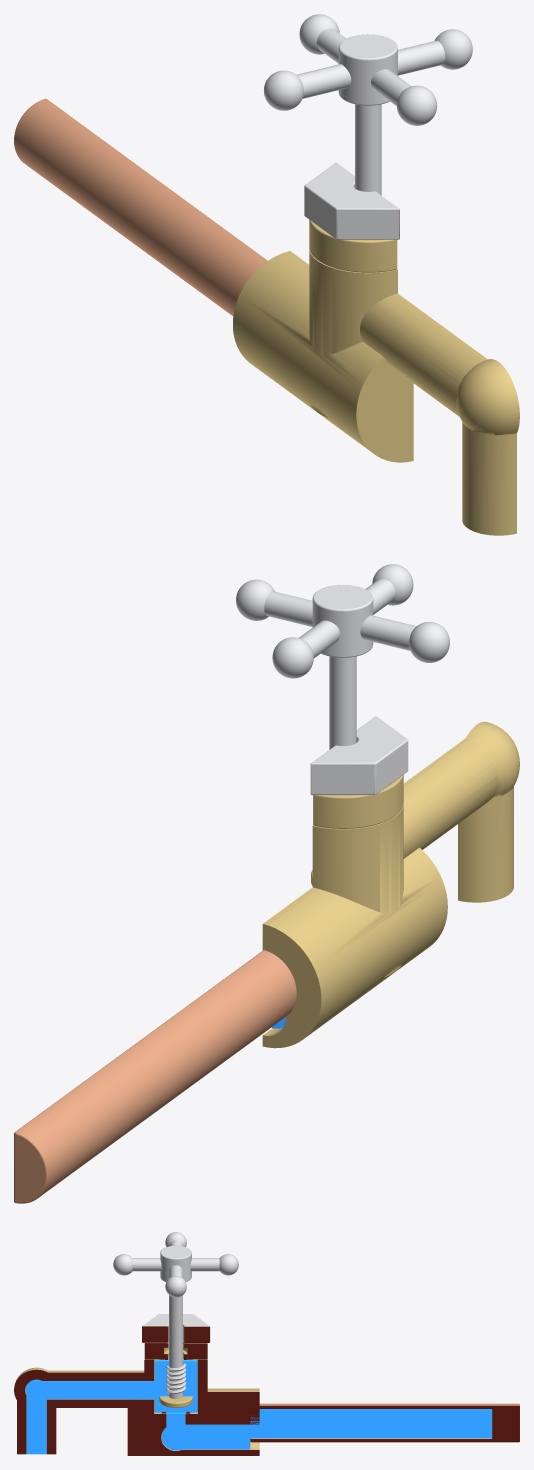
File: valve_real.glb
3 renders of one model, top to bottom at view 1: azimuth 30°, elevation 25°; view 2: azimuth 150°, elevation 25°; view 3: azimuth 270°, elevation 25°, orthographic. The views are drawn at different scales.
Visible parts, largest first — view 1: Valve_Body_Cut, Pipe_Stub_Cut, Valve_BonnetNut_Cut, Handle_Hub, Valve_Bonnet_Cut, Handle_BarY, Stem_Rod, Handle_BarX, Handle_Knob, Handle_Knob.003, Handle_Knob.002, Handle_Knob.001; view 2: Valve_Body_Cut, Pipe_Stub_Cut, Valve_BonnetNut_Cut, Handle_Hub, Valve_Bonnet_Cut, Handle_BarY, Stem_Rod, Handle_BarX, Handle_Knob.001, Handle_Knob.003, Handle_Knob.002, Handle_Knob; view 3: Valve_Body_Cut, W_Supply, Pipe_Stub_Cut, W_Spout, W_Inlet, Valve_BonnetNut_Cut, W_Chamber, W_SpoutDown, Stem_Rod, Handle_Hub, Valve_Bonnet_Cut, Handle_BarX (+7 smaller).
Part boxes in pixels (x1=…): Valve_Body_Cut: x1=233, y1=249, x2=519, y2=535; Pipe_Stub_Cut: x1=14, y1=98, x2=267, y2=315; Valve_BonnetNut_Cut: x1=304, y1=162, x2=399, y2=239; Handle_Hub: x1=338, y1=34, x2=397, y2=105; Valve_Bonnet_Cut: x1=309, y1=220, x2=397, y2=272; Handle_BarY: x1=296, y1=40, x2=445, y2=98; Stem_Rod: x1=355, y1=104, x2=381, y2=195; Handle_BarX: x1=316, y1=28, x2=410, y2=106; Handle_Knob: x1=397, y1=85, x2=437, y2=125; Handle_Knob.003: x1=263, y1=70, x2=303, y2=110; Handle_Knob.002: x1=434, y1=29, x2=472, y2=69; Handle_Knob.001: x1=299, y1=14, x2=339, y2=54; Valve_Body_Cut: x1=262, y1=721, x2=519, y2=1048; Pipe_Stub_Cut: x1=14, y1=950, x2=296, y2=1203; Valve_BonnetNut_Cut: x1=310, y1=716, x2=408, y2=795; Handle_Hub: x1=312, y1=585, x2=373, y2=657; Valve_Bonnet_Cut: x1=313, y1=775, x2=403, y2=828; Handle_BarY: x1=264, y1=591, x2=416, y2=650; Stem_Rod: x1=329, y1=656, x2=356, y2=749; Handle_BarX: x1=299, y1=579, x2=395, y2=658; Handle_Knob.001: x1=272, y1=637, x2=313, y2=678; Handle_Knob.003: x1=409, y1=622, x2=449, y2=662; Handle_Knob.002: x1=236, y1=579, x2=274, y2=620; Handle_Knob: x1=372, y1=564, x2=413, y2=605; Valve_Body_Cut: x1=14, y1=1359, x2=259, y2=1455; W_Supply: x1=250, y1=1409, x2=491, y2=1438; Pipe_Stub_Cut: x1=250, y1=1403, x2=519, y2=1442; W_Spout: x1=36, y1=1380, x2=168, y2=1399; W_Inlet: x1=176, y1=1424, x2=250, y2=1449; Valve_BonnetNut_Cut: x1=142, y1=1314, x2=210, y2=1342; W_Chamber: x1=155, y1=1359, x2=197, y2=1412; W_SpoutDown: x1=26, y1=1390, x2=46, y2=1454; Stem_Rod: x1=169, y1=1295, x2=182, y2=1398; Handle_Hub: x1=160, y1=1245, x2=191, y2=1281; Valve_Bonnet_Cut: x1=144, y1=1341, x2=207, y2=1359; Handle_BarX: x1=132, y1=1258, x2=219, y2=1271.
Size of the model in its own units: 0.0676 by 0.121 by 0.2722.
